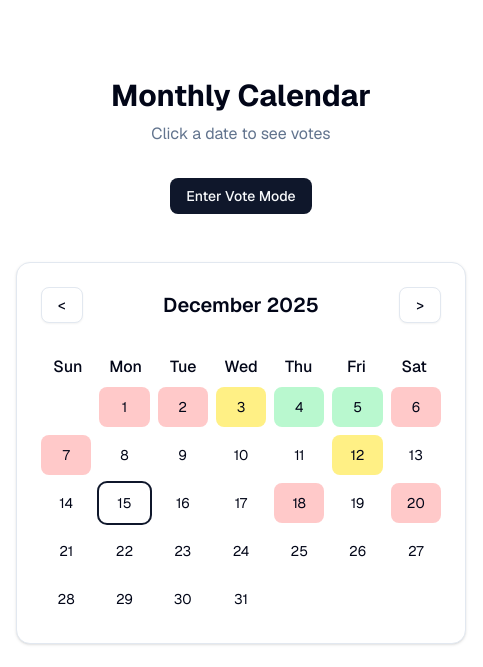
Scenario: CalendarPage › opens DateCard when not in vote mode and a day is clicked
Click the button named "View votes for December 18": [299, 503] box left=274, top=483, right=324, bottom=523
(page scrolled)
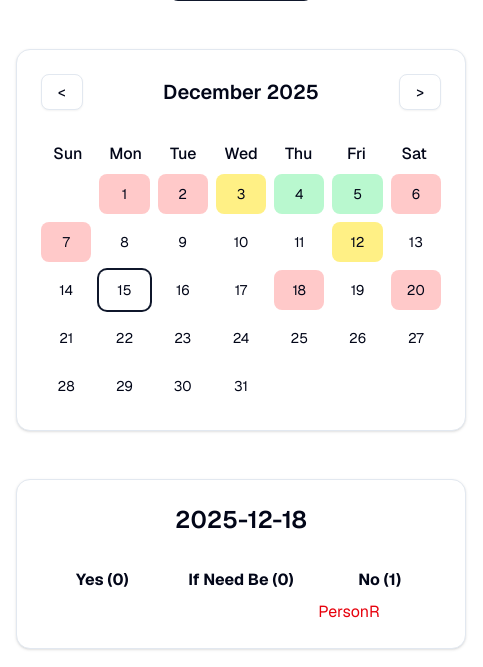
Now the text "2025-12-18" is shown, box left=175, top=504, right=307, bottom=535
Now the heading "No (1)" is shown, box left=358, top=569, right=401, bottom=590
